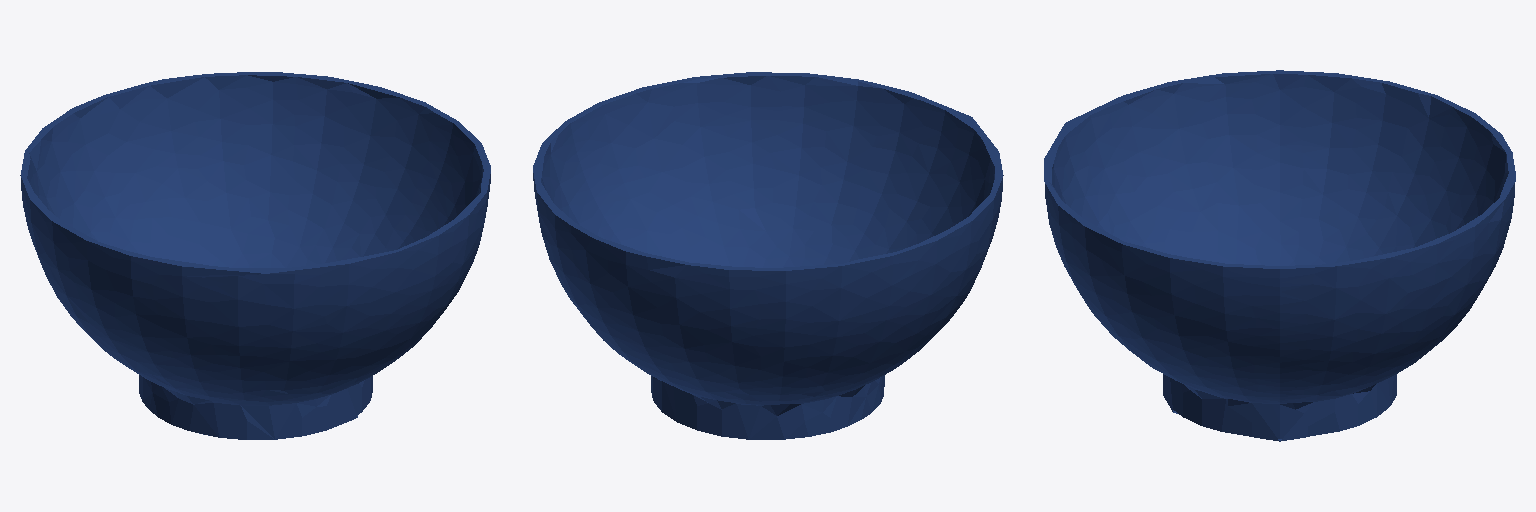
The robot description file, URDF, robot "design":
<?xml version="1.0"?>
<robot name="design">
  <material name="obj_color">
      <color rgba="0.2 0.3 0.5 1.0"/>
  </material>
  <link name="base">
    <visual>
      <origin xyz="0.0 0.0 0.0"/>
      <geometry>
        <mesh filename="bowl.obj" scale="1 1 1"/>
      </geometry>
      <material name="obj_color"/>
    </visual>
    <collision>
      <origin xyz="0.0 0.0 0.0"/>
      <geometry>
        <mesh filename="bowl.obj" scale="1 1 1"/>
      </geometry>
    </collision>
  </link>
</robot>

--- Render facts (derived) ---
3 views of the same robot in one strip: view 1: azimuth 30°, elevation 25°; view 2: azimuth 150°, elevation 25°; view 3: azimuth 270°, elevation 25° (orthographic).
Model design with 1 links and 0 joints (none), rooted at base, posed every joint at zero.
Links seen in each view (by area): view 1: base; view 2: base; view 3: base.
Boxes of the visible links, <box> form: base: <box>20,72,490,439</box>; base: <box>533,72,1003,439</box>; base: <box>1044,70,1515,441</box>.
Bounding box of the posed robot: 0.1489 × 0.149 × 0.0766 m (x, y, z).
1 mesh visuals loaded from 1 distinct referenced files (1 OBJ).